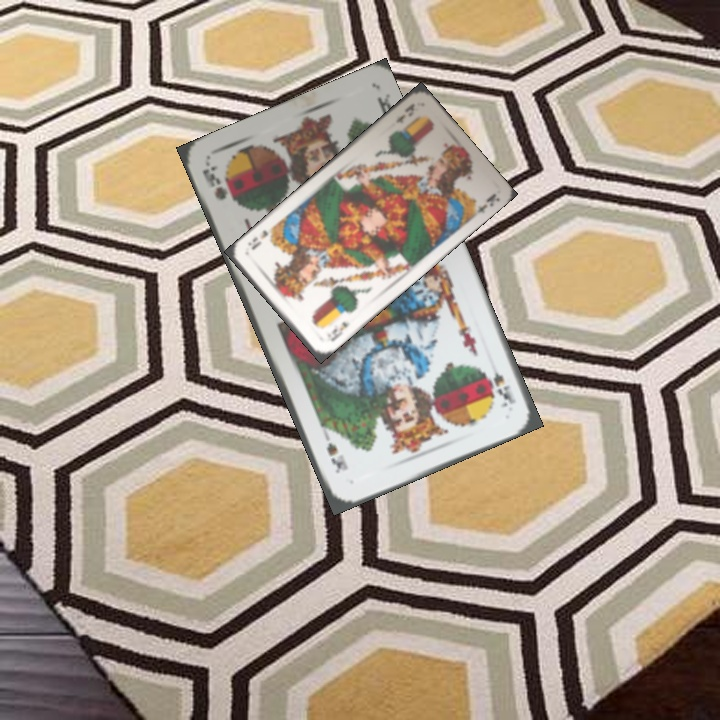EK: (326, 317, 351, 344), (392, 100, 417, 126)
SK: (485, 355, 518, 411), (198, 161, 231, 203)
